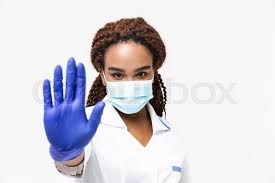mask: (100, 31, 157, 114)
